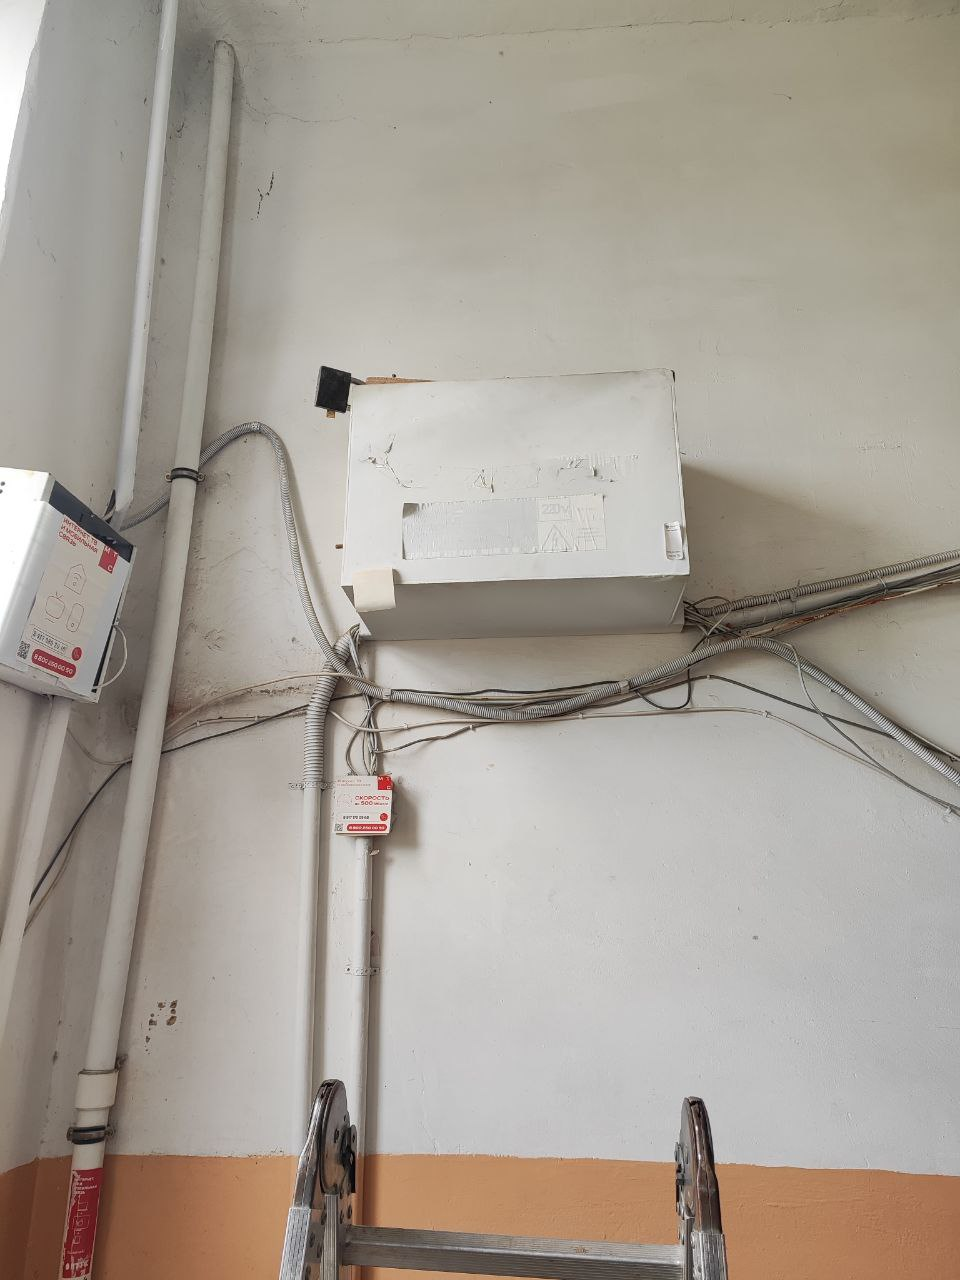sv-5: (330, 362, 694, 643)
